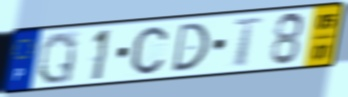1: (92, 27, 113, 82)
8: (268, 10, 307, 68)
C: (129, 24, 170, 76)
D: (170, 21, 212, 74)
Q: (36, 30, 79, 87)
T: (231, 16, 265, 68)
